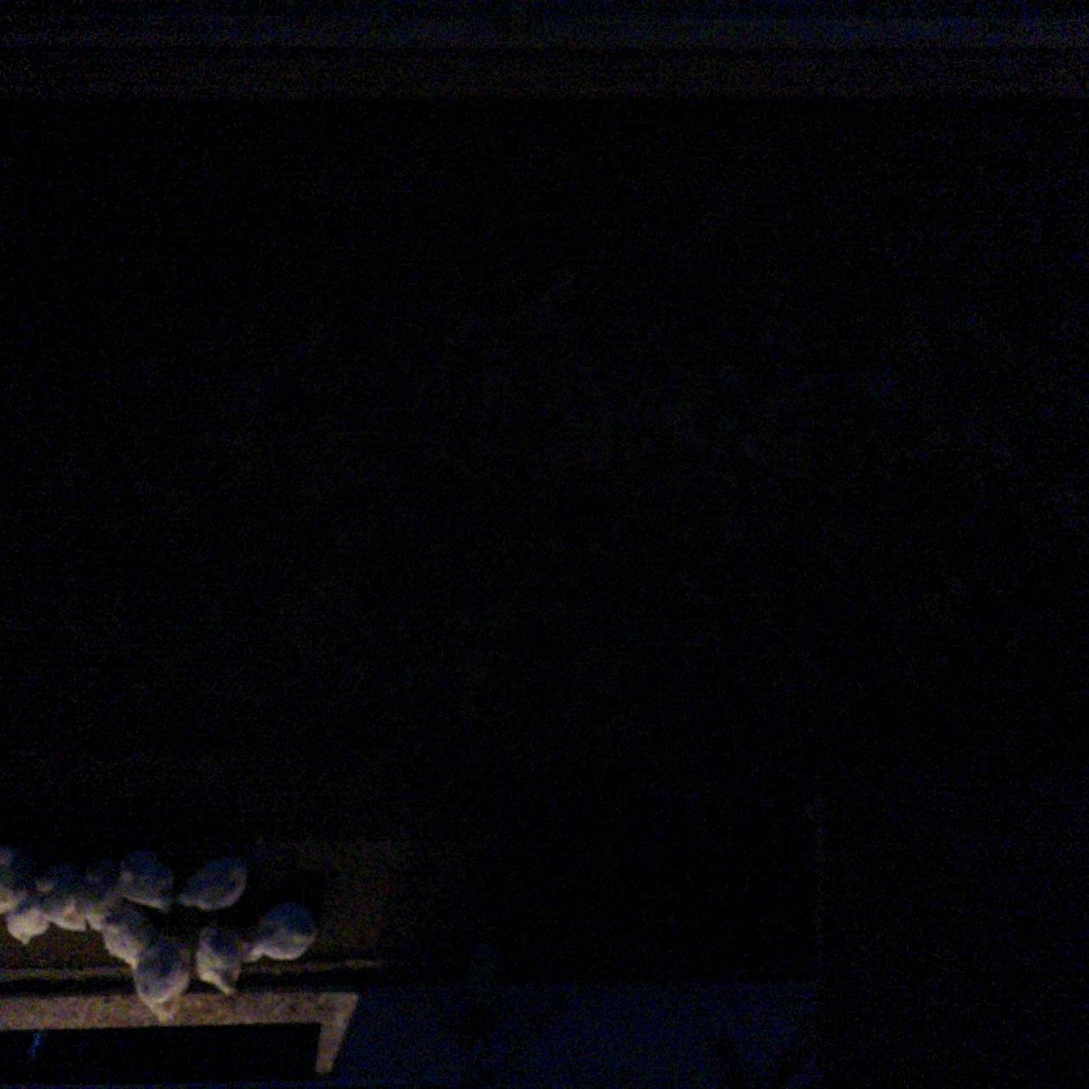chicken: (105, 919, 191, 1026), (107, 854, 180, 914), (39, 875, 114, 931), (196, 915, 245, 997), (179, 859, 252, 914), (243, 915, 320, 965), (0, 844, 53, 907), (3, 898, 43, 946)
